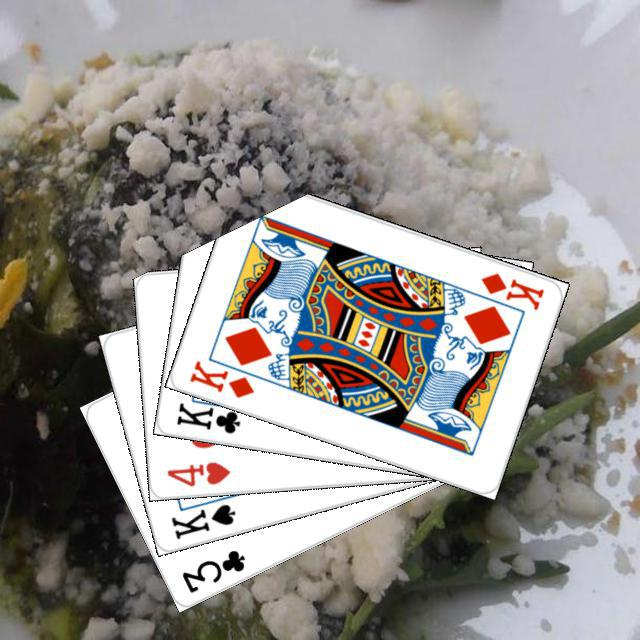3c: (177, 545, 248, 595)
4h: (162, 456, 232, 488)
Kc: (171, 393, 251, 436)
Kd: (184, 355, 256, 400), (476, 268, 546, 312)
Ks: (166, 498, 237, 541)
